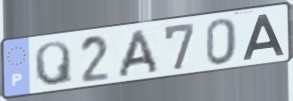0: (204, 16, 240, 67)
2: (79, 33, 114, 84)
7: (161, 21, 196, 71)
A: (116, 28, 162, 80), (241, 12, 287, 62)
Q: (32, 40, 76, 88)
